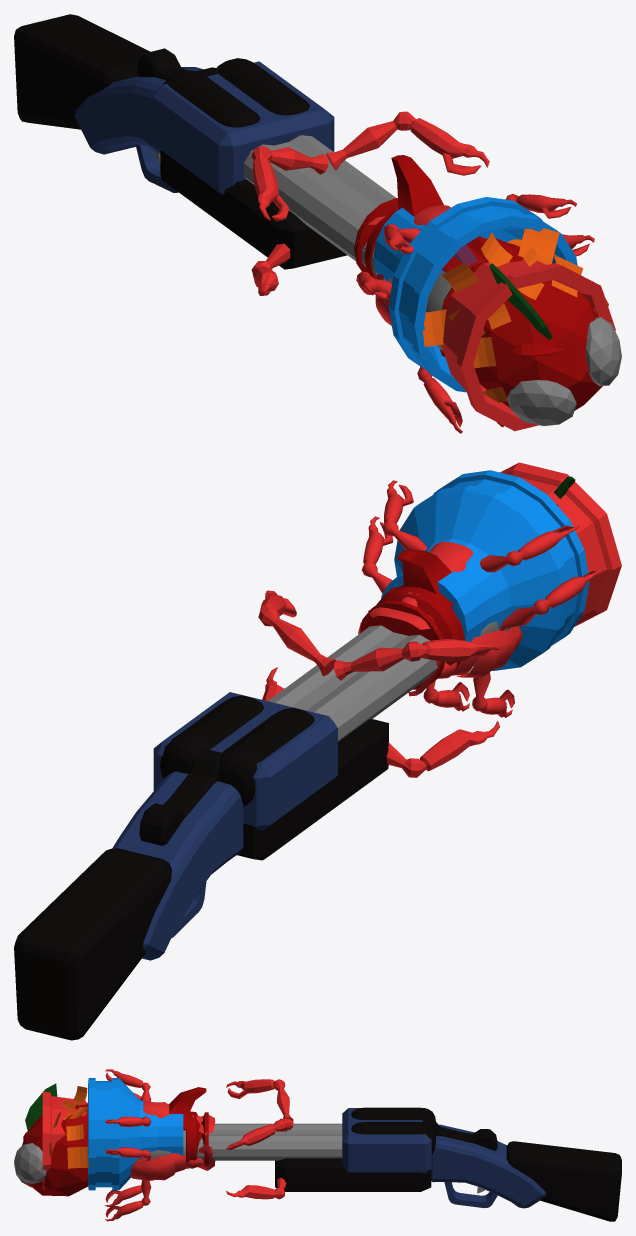
The model's file is Weapon_Shotgun.fbx.
3 renders of one model, top to bottom at view 1: azimuth 30°, elevation 25°; view 2: azimuth 150°, elevation 25°; view 3: azimuth 270°, elevation 25°, orthographic. The views are drawn at different scales.
Visible parts, largest first — view 1: Shotgun, Module_Explosif, Module_Ideal, Module_Gros_Projectile, Module_Rebondissant; view 2: Shotgun, Module_Explosif, Module_Ideal, Module_Gros_Projectile, Module_Rebondissant; view 3: Shotgun, Module_Explosif, Module_Ideal, Module_Rebondissant, Module_Gros_Projectile.
Boxes of the visible parts, x1,y1,x2,y2 form: Shotgun: [14, 14, 395, 272]; Module_Explosif: [373, 197, 621, 426]; Module_Ideal: [251, 111, 594, 433]; Module_Gros_Projectile: [441, 259, 615, 431]; Module_Rebondissant: [354, 155, 563, 357]; Shotgun: [14, 625, 446, 1040]; Module_Explosif: [381, 470, 589, 670]; Module_Ideal: [258, 480, 603, 777]; Module_Gros_Projectile: [500, 462, 621, 626]; Module_Rebondissant: [359, 550, 507, 689]; Shotgun: [183, 1107, 621, 1221]; Module_Explosif: [14, 1078, 183, 1196]; Module_Ideal: [69, 1069, 293, 1221]; Module_Rebondissant: [23, 1087, 208, 1168]; Module_Gros_Projectile: [42, 1091, 87, 1189].
Bounding box in the file's own units: 50.8 × 48.08 × 201.
